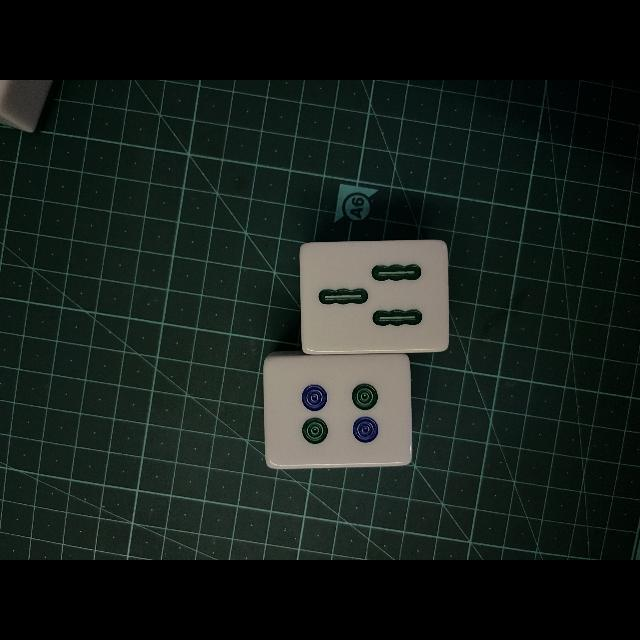b3: (304, 243, 446, 351)
d4: (266, 360, 409, 464)
